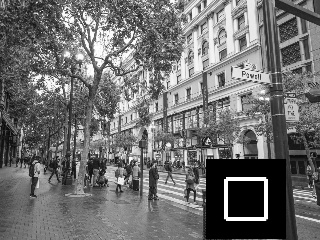square: (207, 159, 286, 237)
